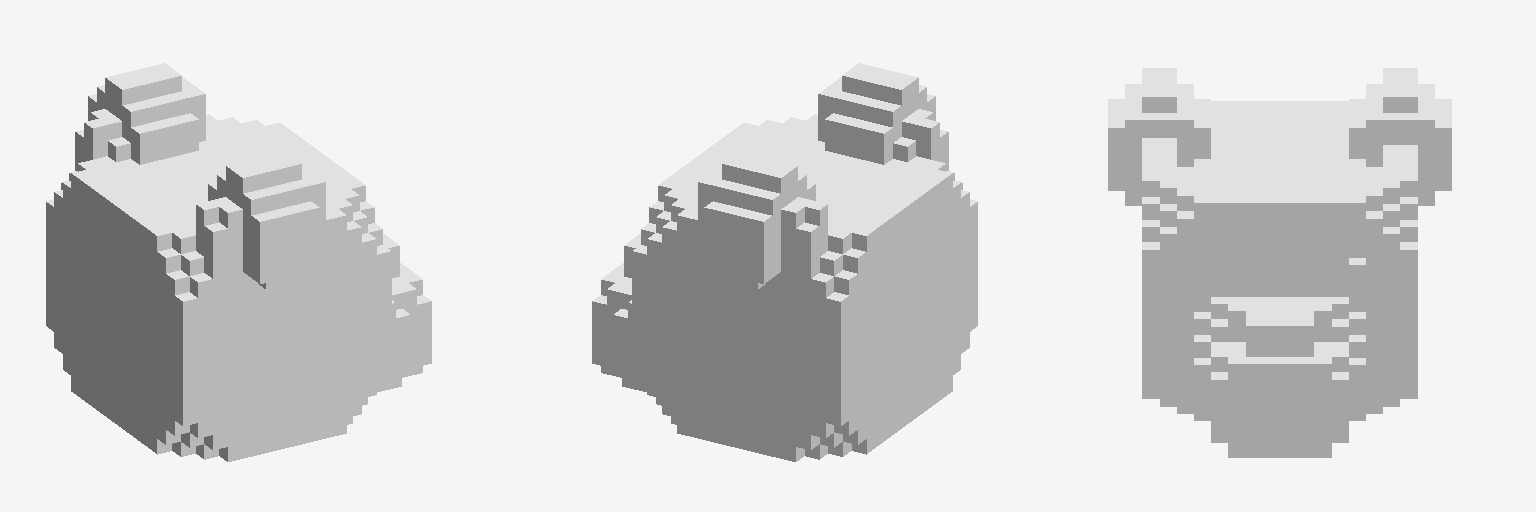
File: strong_bear-2.obj
3 renders of one model, left to right at view 1: azimuth 30°, elevation 25°; view 2: azimuth 150°, elevation 25°; view 3: azimuth 270°, elevation 25°, orthographic.
Parts seen in each view (by area): view 1: object 1; view 2: object 1; view 3: object 1.
Boxes of the visible parts, <box> form: object 1: <box>46,63,431,461</box>; object 1: <box>592,63,977,461</box>; object 1: <box>1108,68,1451,457</box>.
Size of the model in its own units: 1.9 by 1.9 by 2.